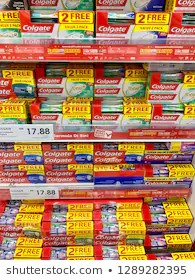colgate-family: (31, 103, 92, 125), (92, 103, 151, 125), (37, 78, 92, 101), (146, 72, 194, 97), (151, 103, 195, 129), (41, 144, 92, 164), (92, 144, 143, 164), (96, 77, 146, 97), (143, 165, 190, 186), (44, 164, 95, 180), (1, 167, 45, 183), (1, 148, 44, 164)
